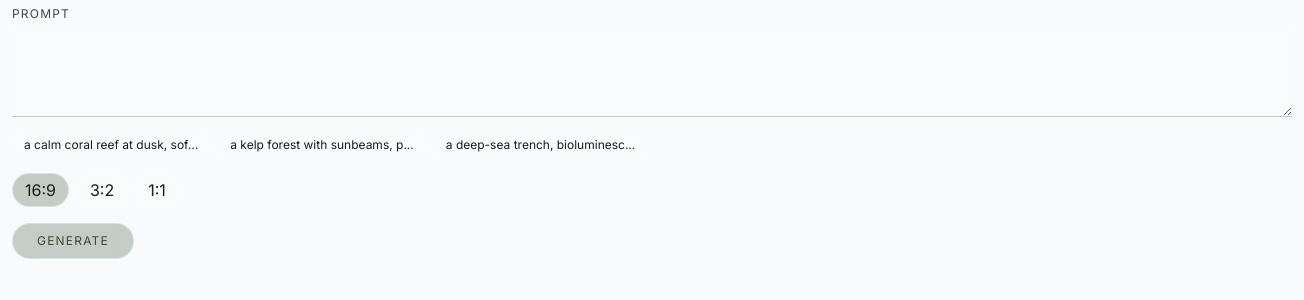
Test: BackgroundGenerateTab › shows zod error for too-short prompts
This screenshot has width=1304, height=300.
Type "no" into the text box labelled "Prompt".
click(652, 72); type("no")  # box [12,28,1292,117]
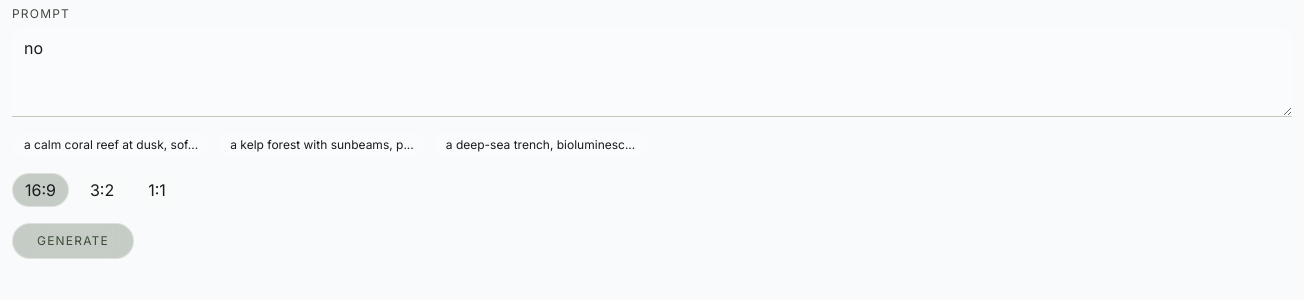
Click the button "Generate".
click(73, 241)  # box [12,223,134,259]
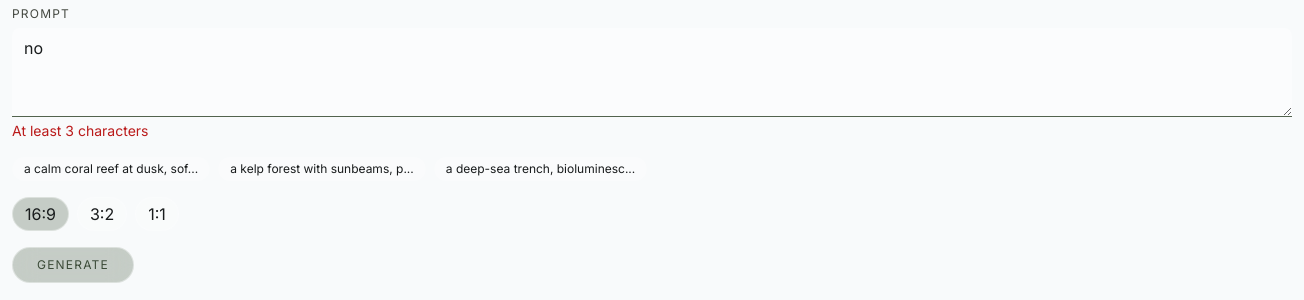
expect the message shows "At least 3": met, box [12,122,148,139]
